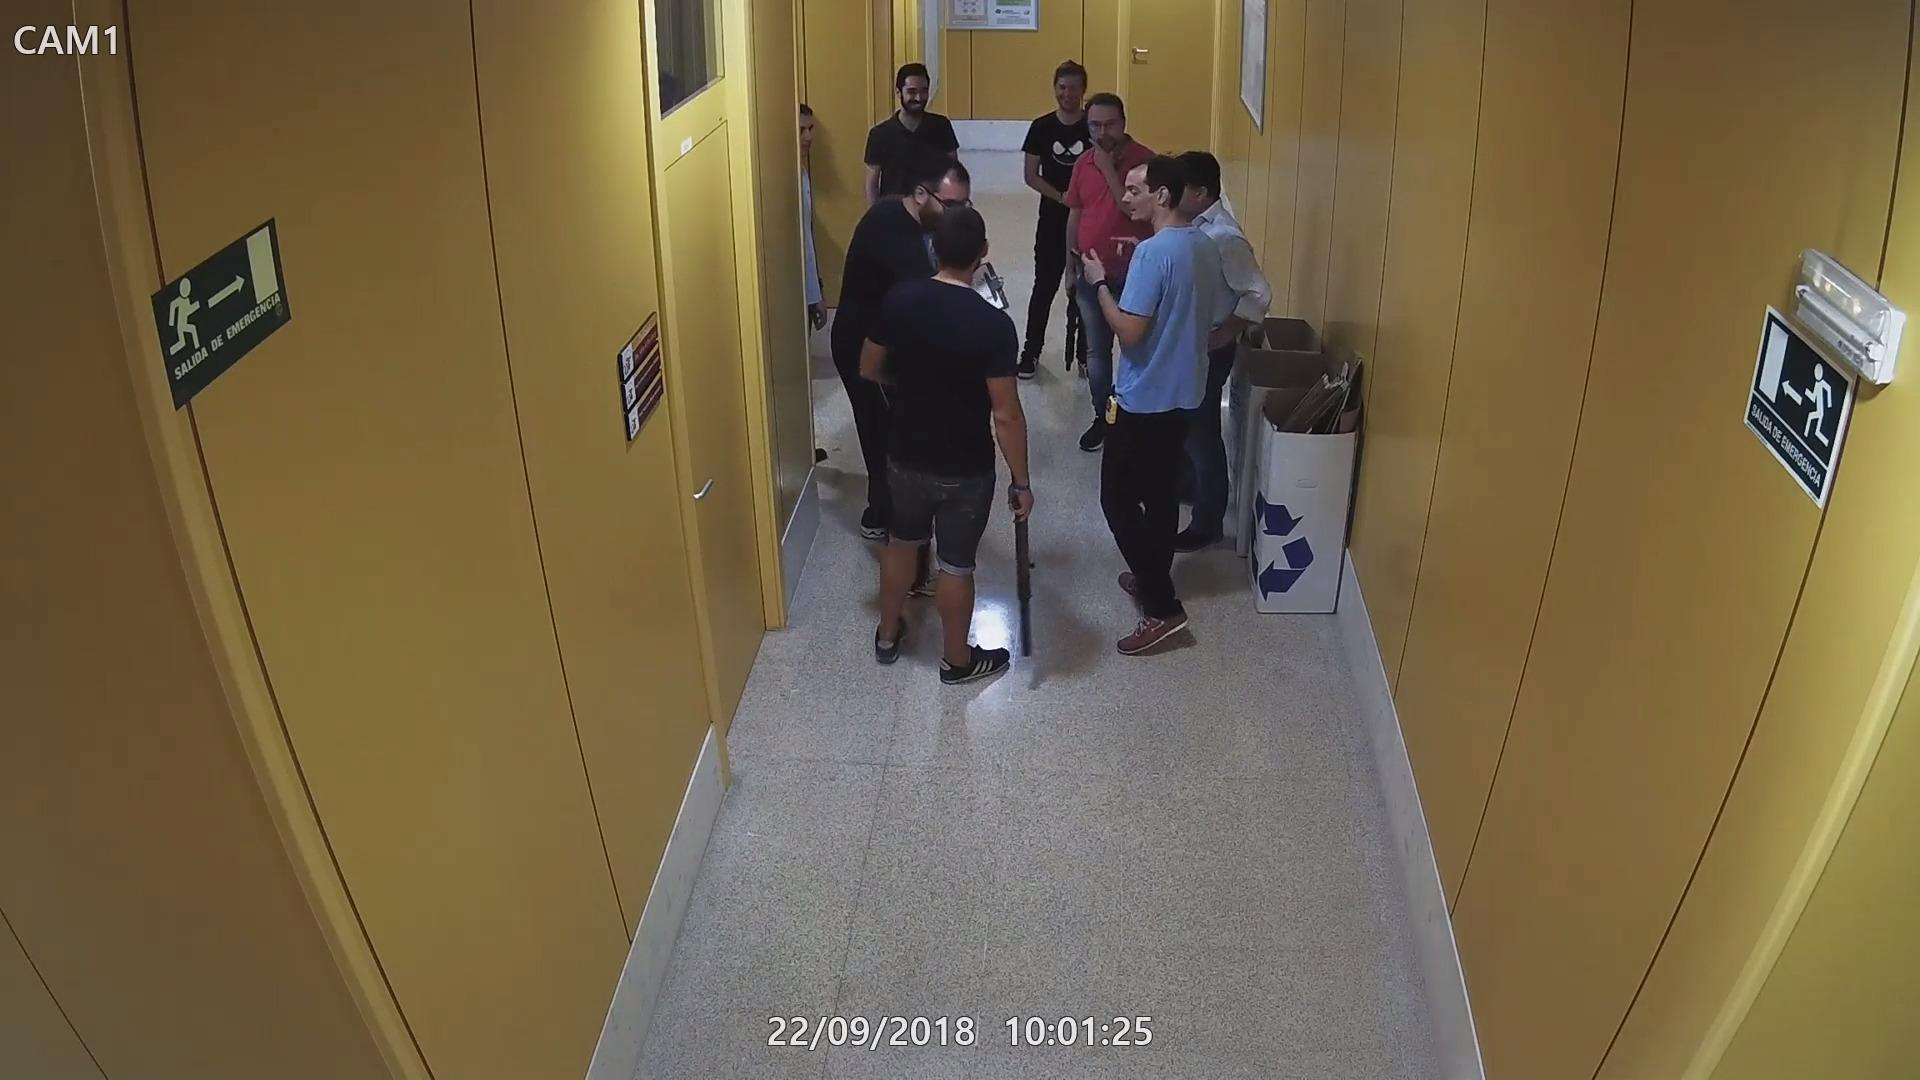Handgun: (1064, 244, 1091, 295)
